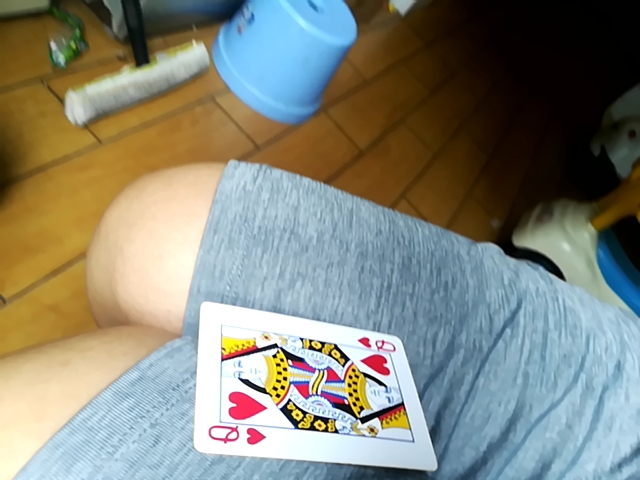hx q: (194, 301, 429, 470)
